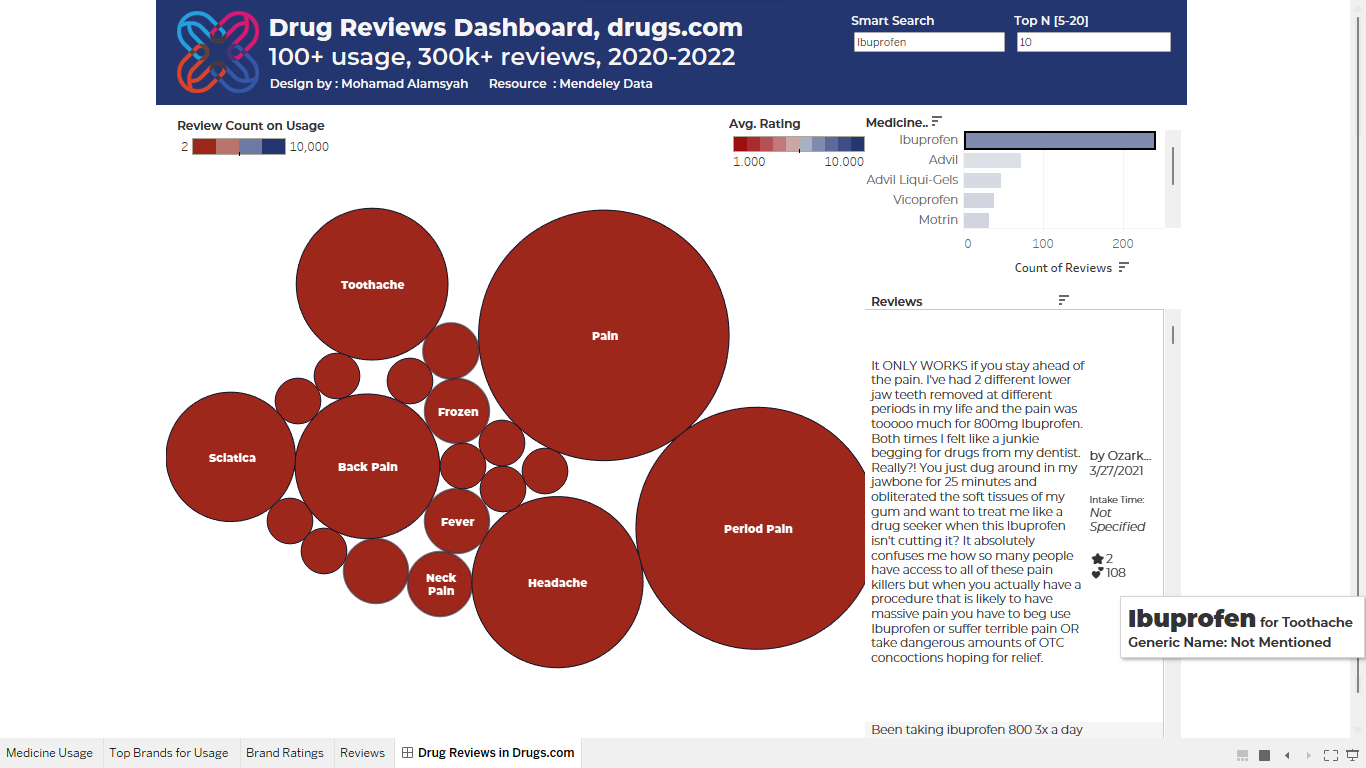

This screenshot's page, from the dashboard's own definition file:
{"tool":"tableau","page":{"name":"drug-reviews-bigquery","canvas":[1000,800],"ordinal":0},"visuals":[{"type":"text","box":[92,10,523,68]},{"type":"image","param":"C:/Users/acer/Downloads/PROJECTS-2.0/DrugReviews/drugscom-logomark-112x112.png","box":[11,14,78,83]},{"type":"parameter","param":"[Parameters].[Parameter 2]","box":[807,14,159,67]},{"type":"parameter","param":"[Parameters].[Parameter 1]","box":[619,15,151,44]},{"type":"text","box":[620,56,180,45]},{"type":"text","box":[819,62,134,33]},{"type":"text","box":[93,68,440,32]},{"type":"worksheet","title":"Top Brands by Usage","mark":"Automatic","rows":["MedicineBrandName"],"cols":["Reviews"],"box":[605,100,388,215]},{"type":"legend","title":"Medicine Usage","param":"[federated.18pzkps1q4mk2b1e8keax0oiqh2z].[cnt:MedicineUsedFor:qk]","box":[18,115,168,76]},{"type":"legend","title":"Top Brands by Usage","param":"[federated.18pzkps1q4mk2b1e8keax0oiqh2z].[avg:Rating:qk]","box":[357,117,233,76]},{"type":"worksheet","title":"Medicine Usage","mark":"Circle","box":[10,176,591,608]},{"type":"worksheet","title":"Top Generics by Usage","mark":"Automatic","rows":["MedicineGenericName"],"cols":["Reviews"],"box":[606,305,387,214]},{"type":"text","box":[608,525,384,47]},{"type":"worksheet","title":"Reviews","mark":"Automatic","rows":["Reviews"],"box":[605,556,388,234]}]}

Visuals, with their boxes on the page's 1000x800 design canvas (x1, y1, x2, y2). These are canvas units, not pixel positions in the 1366x768 screenshot, which may show the page scaled, cropped or inside an application window:
text: <box>92,10,615,78</box>
image: <box>11,14,89,97</box>
parameter: <box>807,14,966,81</box>
parameter: <box>619,15,770,59</box>
text: <box>620,56,800,101</box>
text: <box>819,62,953,95</box>
text: <box>93,68,533,100</box>
"Top Brands by Usage" worksheet: <box>605,100,993,315</box>
"Medicine Usage" legend: <box>18,115,186,191</box>
"Top Brands by Usage" legend: <box>357,117,590,193</box>
"Medicine Usage" worksheet (Circle marks): <box>10,176,601,784</box>
"Top Generics by Usage" worksheet: <box>606,305,993,519</box>
text: <box>608,525,992,572</box>
"Reviews" worksheet: <box>605,556,993,790</box>
